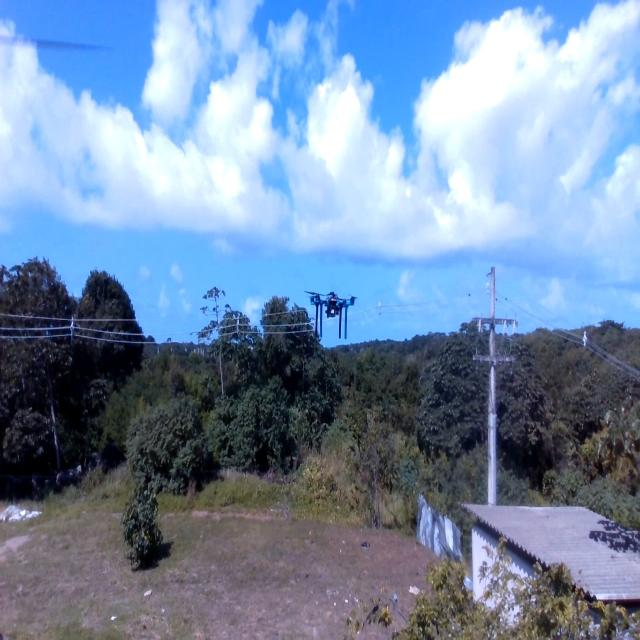-uav-: (299, 278, 368, 356)
